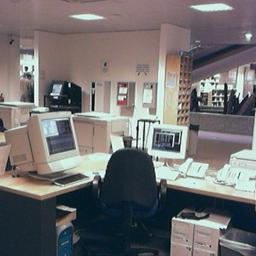Bote de Basura: (188, 120, 201, 156)
